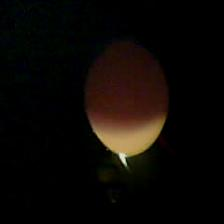fertile: (79, 35, 173, 162)
